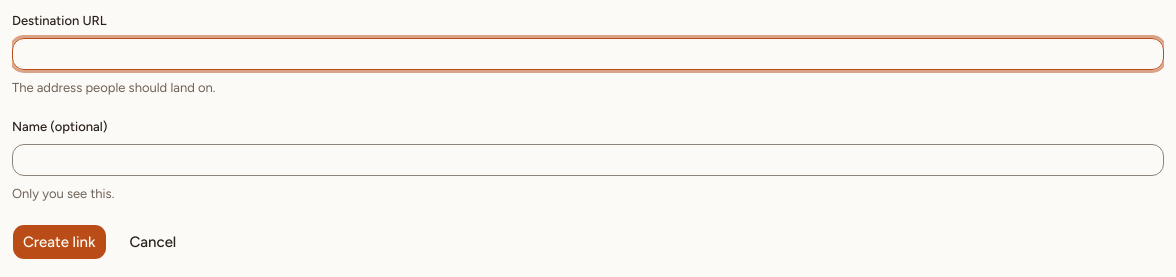
LinkForm › refuses to submit an empty destination, without a round trip
Click the button "Create link" at (59, 242), box [12,224,106,260]
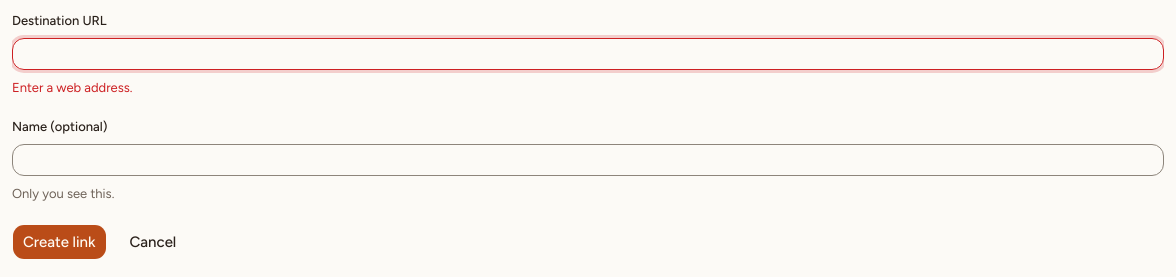
Expected: the text "Enter a web address." is shown, [12,80,132,95]
